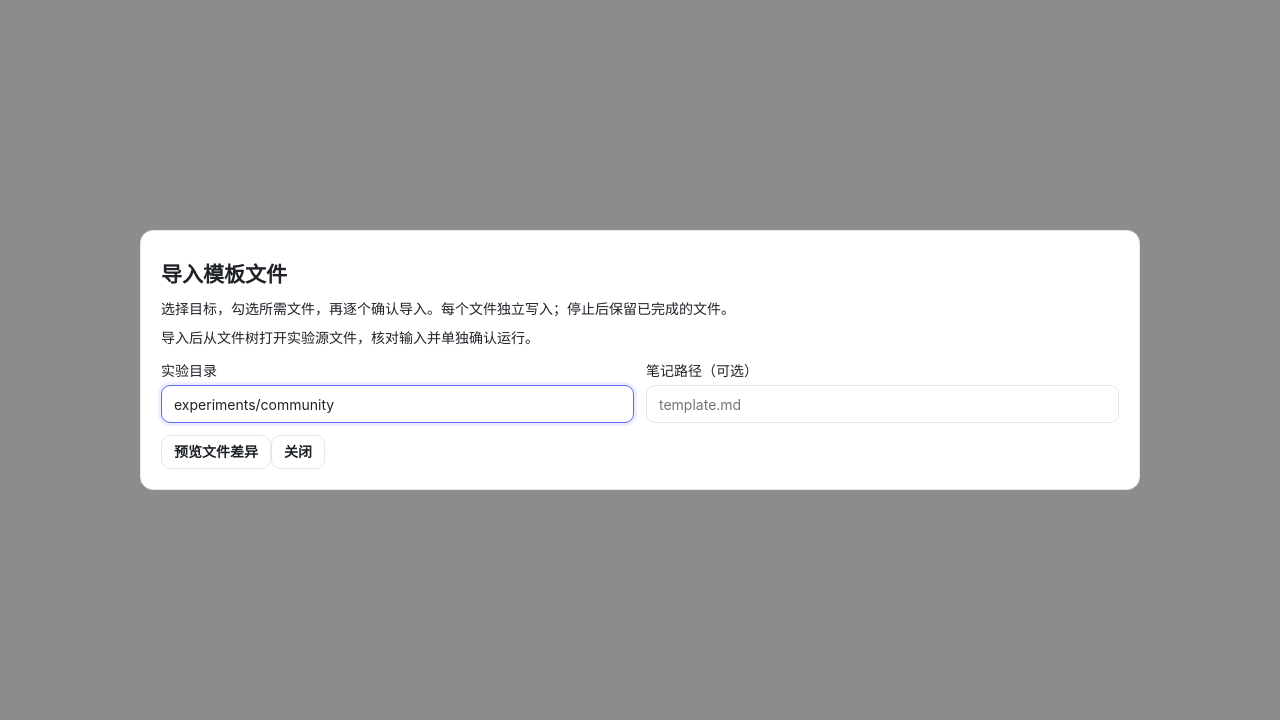
Test case: keeps the first actual receipt visible when importing a later file fails
This screenshot has width=1280, height=720.
What coordinates should you click on to do the following:
click the button "预览文件差异"
I would click on:
 (216, 452)
Its box is 161,435 -> 271,469.
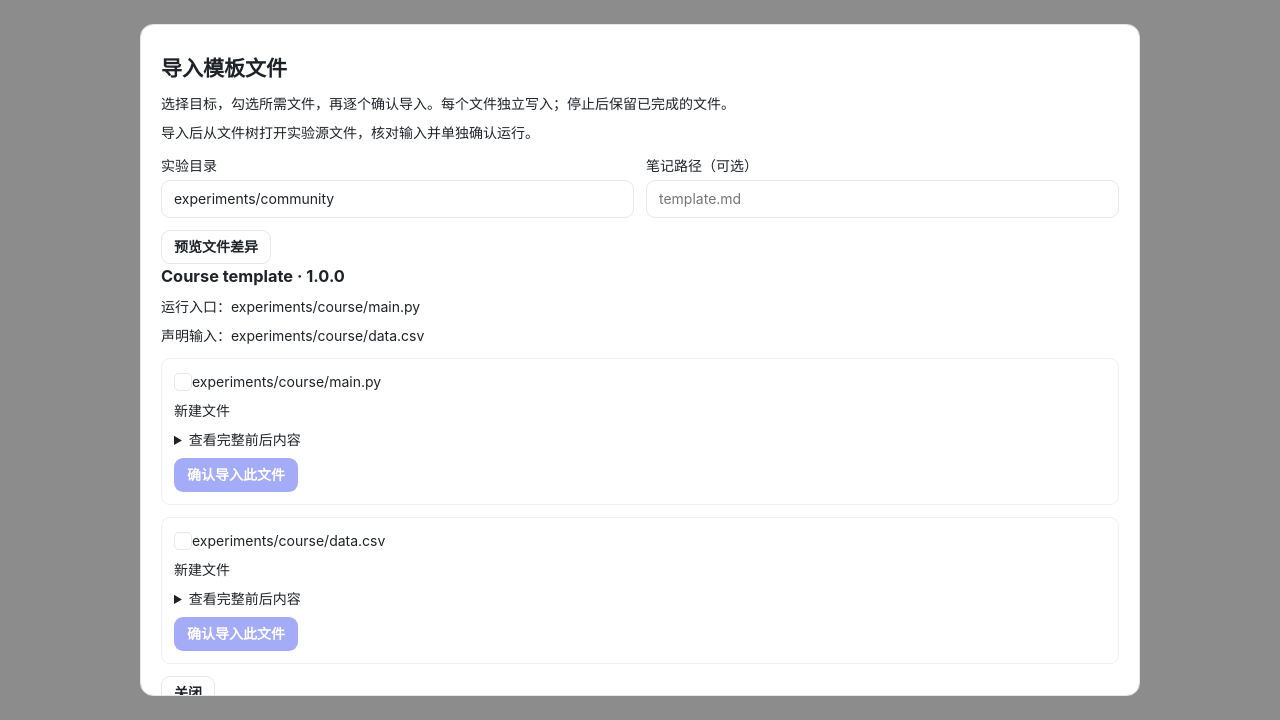
What coordinates should you click on to do the following:
click the checkbox labelled "experiments/course/main.py"
I would click on:
 (183, 382)
Its box is 174,373 -> 192,391.
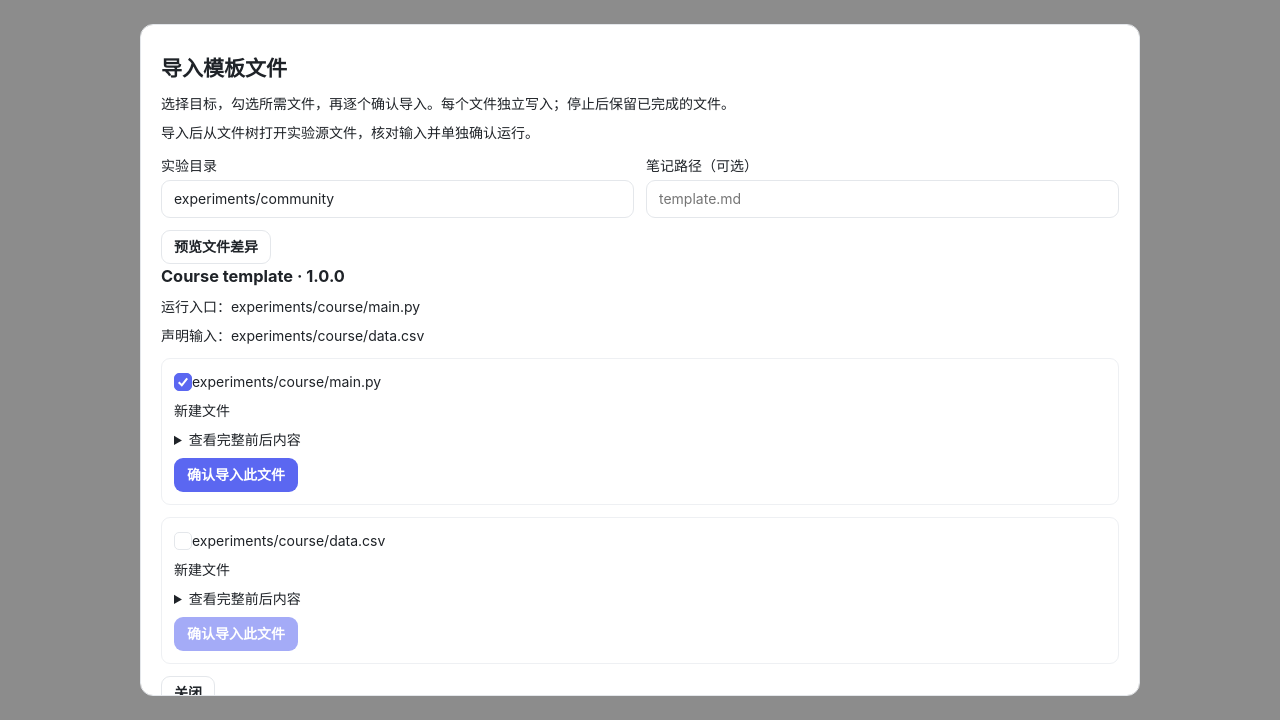
What coordinates should you click on to do the following:
click the 1st button "确认导入此文件"
I would click on:
 (236, 475)
Its box is 174,458 -> 298,492.
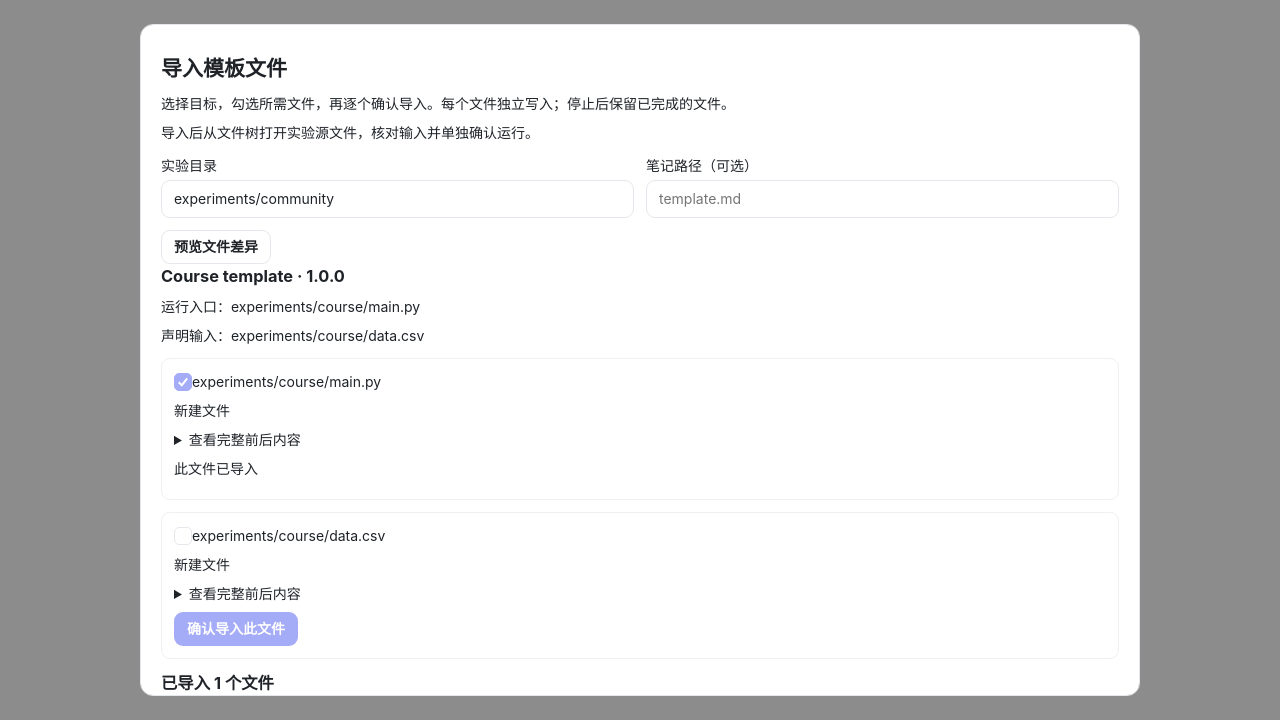
What coordinates should you click on to do the following:
click the checkbox labelled "experiments/course/data.csv"
I would click on:
 (183, 536)
Its box is 174,527 -> 192,545.
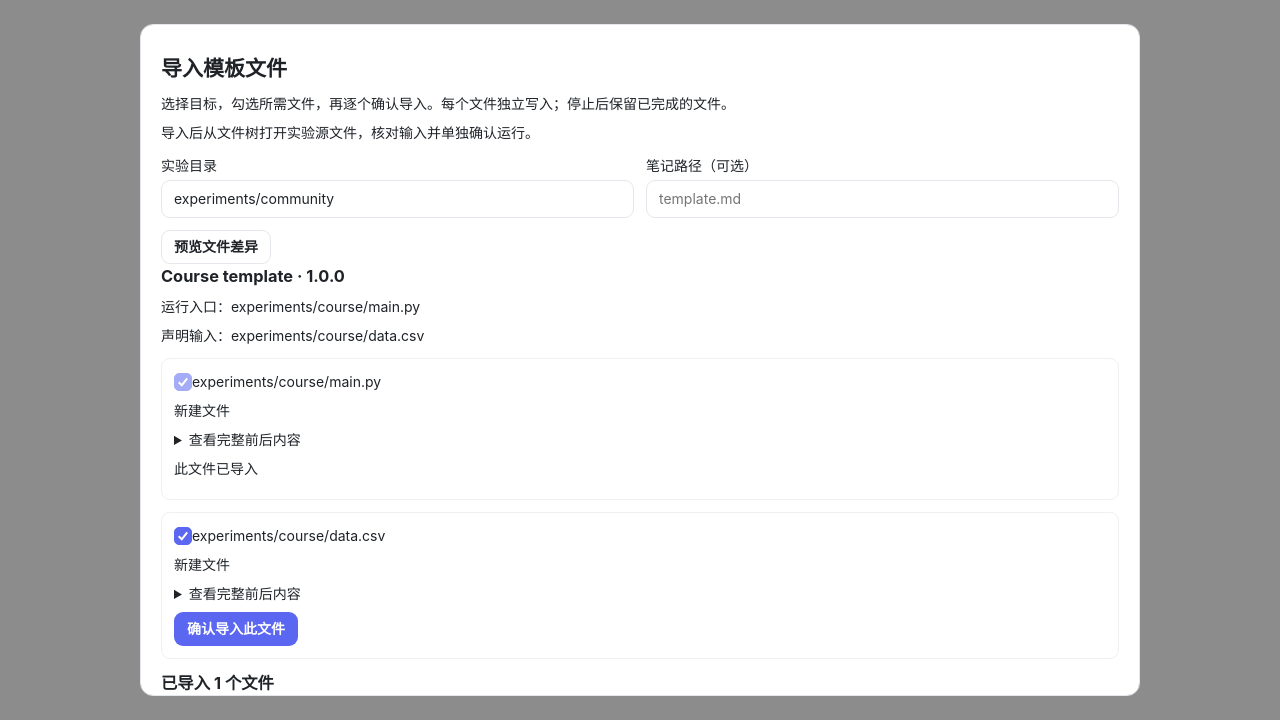
What coordinates should you click on to do the following:
click the button "确认导入此文件"
I would click on:
 (236, 629)
Its box is 174,612 -> 298,646.
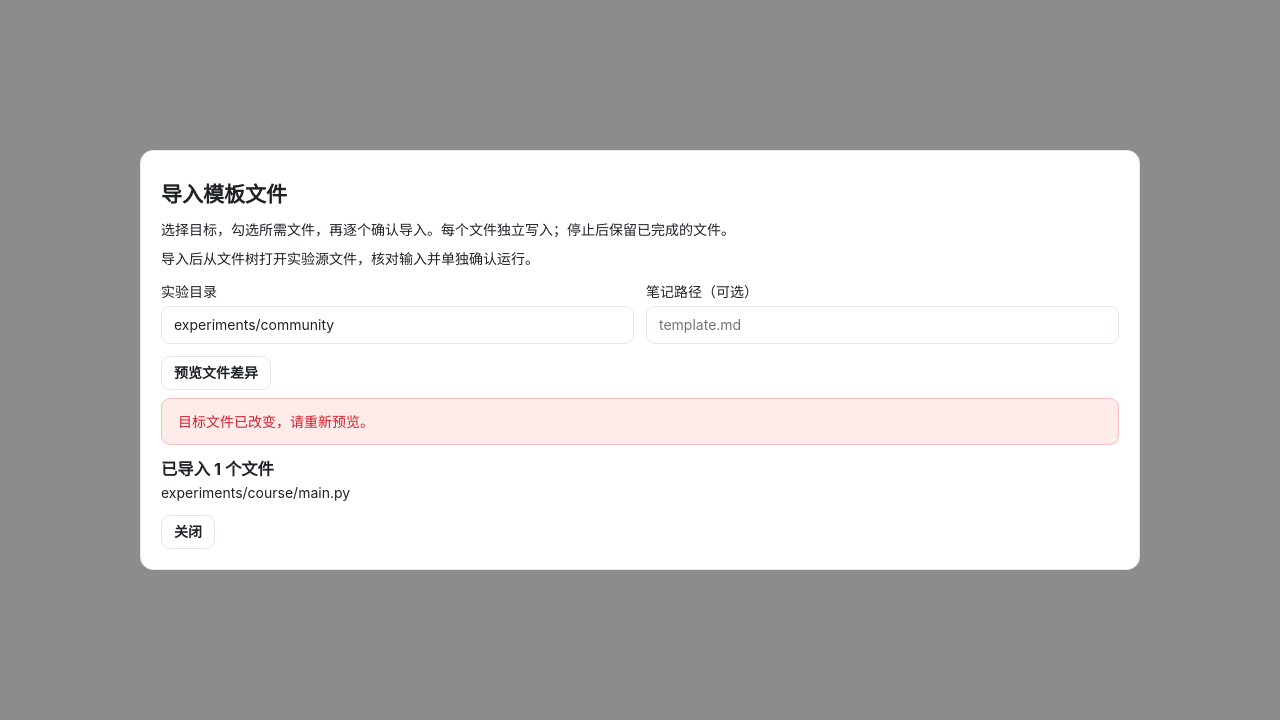
Now the text "已导入 1 个文件" is shown, box 161,459 -> 274,479
Now the text "experiments/course/main.py" is shown, box 161,484 -> 350,500
Now the text "目标文件已改变" is shown, box 178,413 -> 374,430
